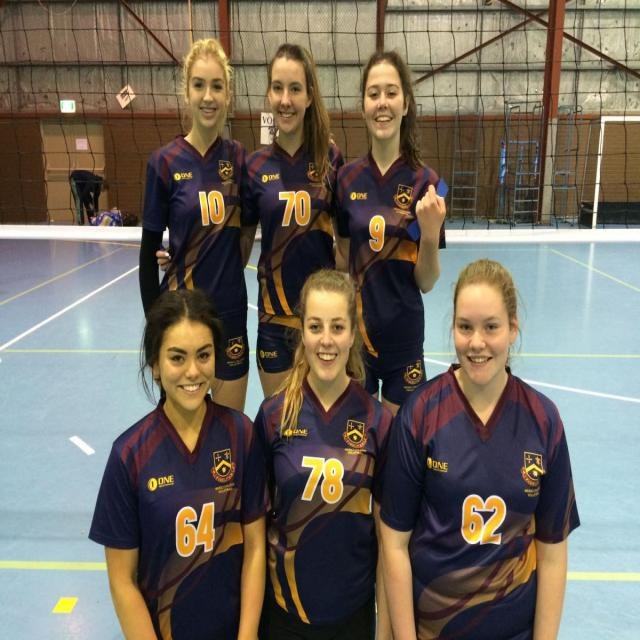body: (378, 256, 581, 640), (156, 38, 353, 404), (245, 266, 407, 640), (87, 287, 256, 639), (138, 38, 257, 416), (329, 49, 448, 425), (68, 169, 110, 226)
